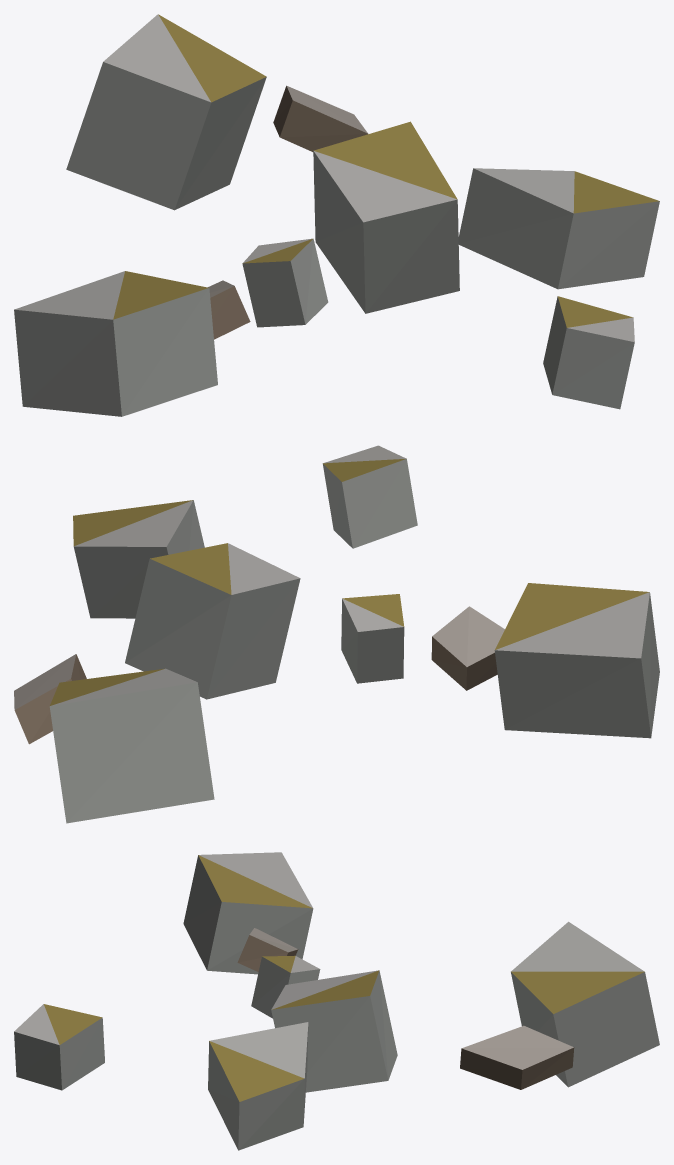
Rendered from rock.rubble__outcrop__autumn.glb.
3 renders of one model, top to bottom at view 1: azimuth 30°, elevation 25°; view 2: azimuth 150°, elevation 25°; view 3: azimuth 270°, elevation 25°, orthographic. The views are drawn at different scales.
Parts seen in each view (by area): view 1: rock.rubble; view 2: rock.rubble; view 3: rock.rubble.
Boxes of the visible parts, box(x1,y1,x2,y2) form: rock.rubble: box(14, 14, 659, 416); rock.rubble: box(14, 445, 659, 823); rock.rubble: box(14, 852, 659, 1150).
Bounding box in the file's own units: 2.41 × 0.5703 × 2.82.
